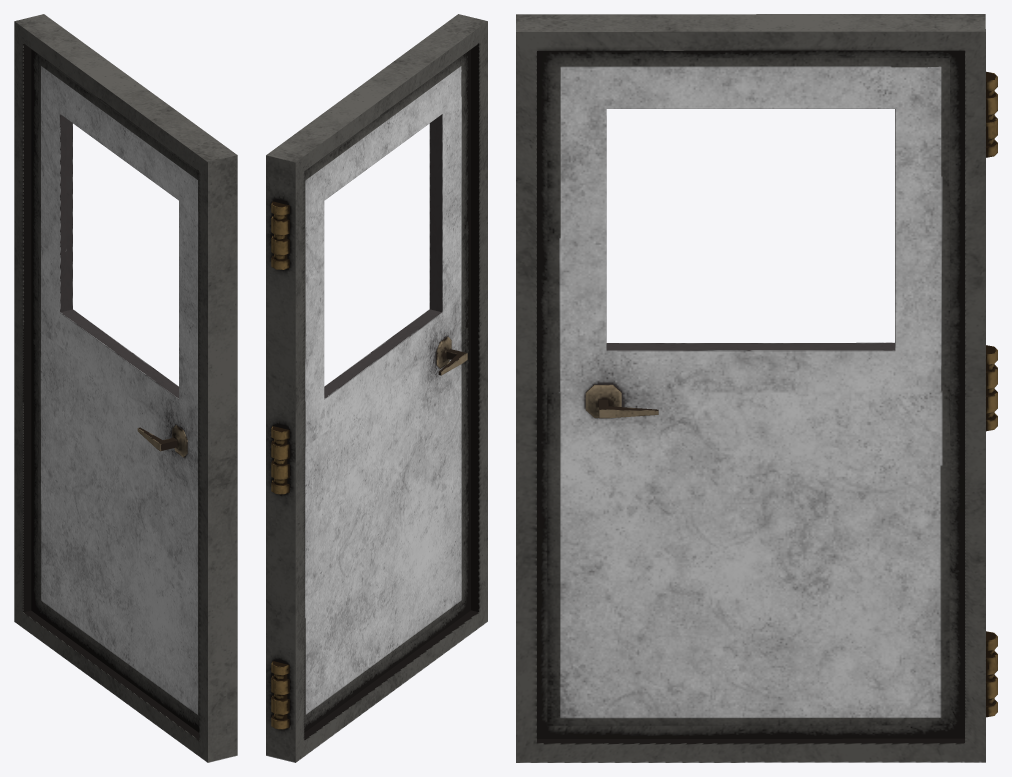
The model's file is SM_Door.fbx.
3 views of the same model, side by side, from view 1: azimuth 30°, elevation 25°; view 2: azimuth 150°, elevation 25°; view 3: azimuth 270°, elevation 25° (orthographic). The views are drawn at different scales.
Visible parts, largest first — view 1: SM_Door; view 2: SM_Door; view 3: SM_Door.
Boxes of the visible parts, <box> form: SM_Door: <box>14,14,237,762</box>; SM_Door: <box>266,14,487,762</box>; SM_Door: <box>516,14,997,762</box>.
Size of the model in its own units: 24.85 by 249 by 149.
